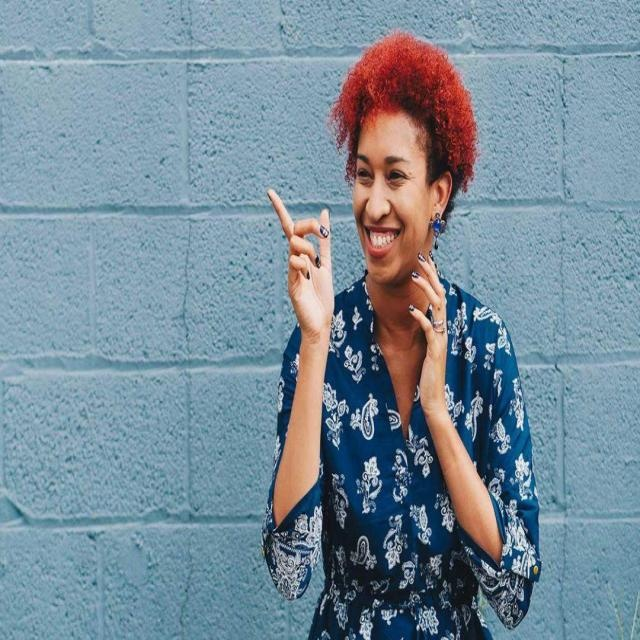NO-Hardhat: (344, 40, 464, 156)
NO-Mask: (356, 222, 424, 286)
NO-Safety Vest: (309, 279, 482, 640)
Person: (260, 38, 544, 640)
